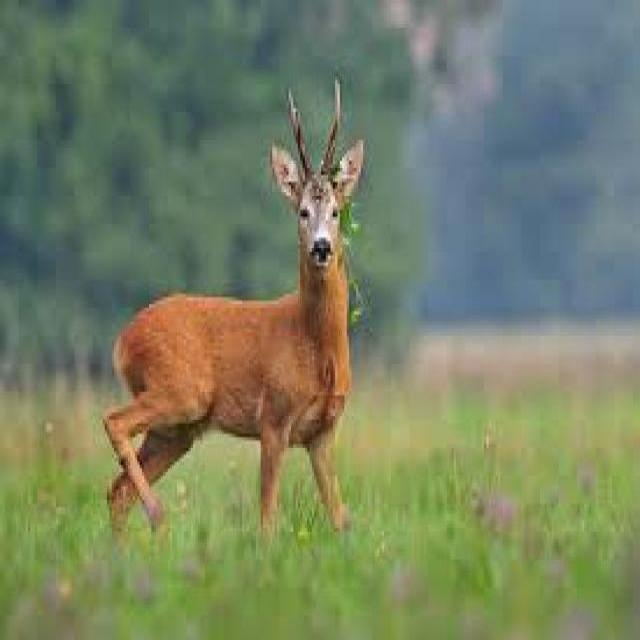deer: (91, 57, 382, 570)
